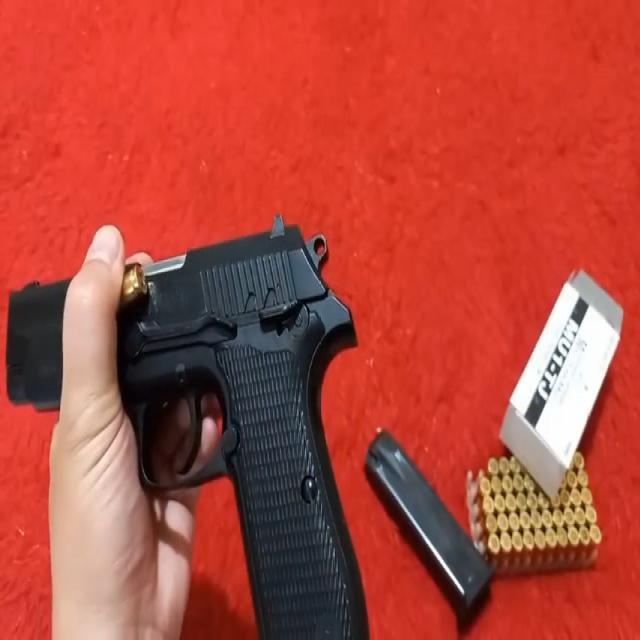handgun: (11, 242, 378, 640)
